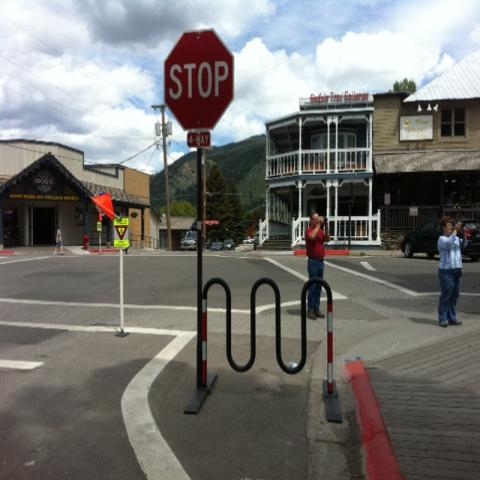car: (401, 218, 479, 262), (180, 231, 198, 251), (223, 239, 236, 251), (210, 242, 223, 250)
